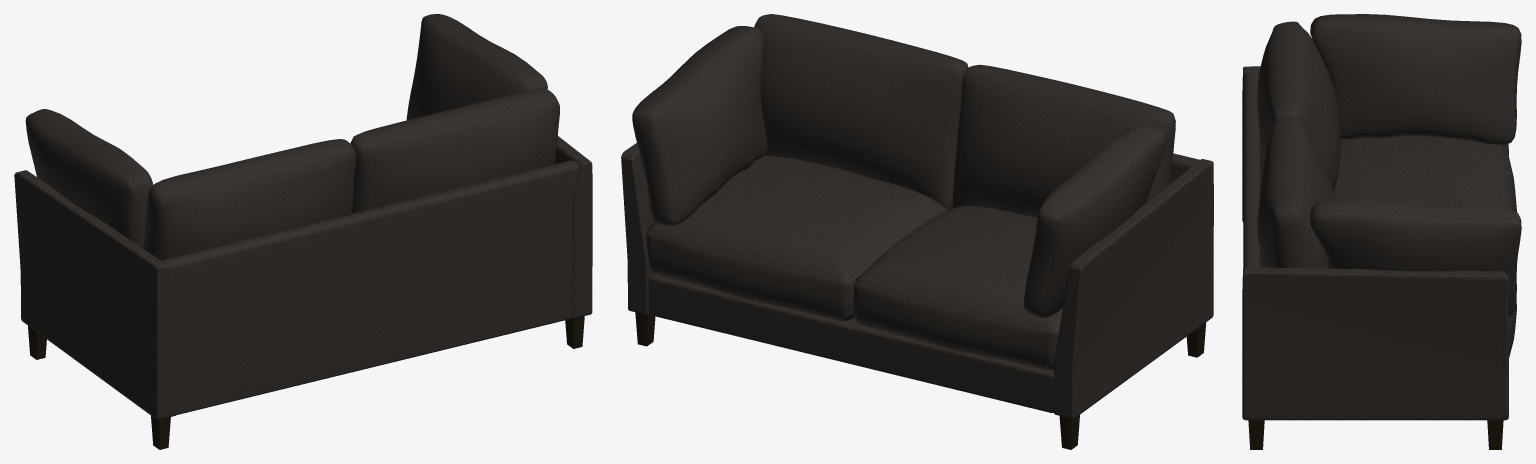
The model's file is abo_B071FMSY5M.glb.
The picture shows the model from 3 angles, left to right: view 1: azimuth 30°, elevation 25°; view 2: azimuth 150°, elevation 25°; view 3: azimuth 270°, elevation 25°; orthographic projection. The views are drawn at different scales.
Visible parts, largest first — view 1: RootNode; view 2: RootNode; view 3: RootNode.
Boxes of the visible parts, left/top/right/bottom form: RootNode: left=14, top=14, right=592, bottom=449; RootNode: left=621, top=14, right=1213, bottom=449; RootNode: left=1242, top=14, right=1521, bottom=449.
Bounding box in the file's own units: 1.75 × 0.9199 × 0.9689.
Materials: 1 (1 with a texture image).
